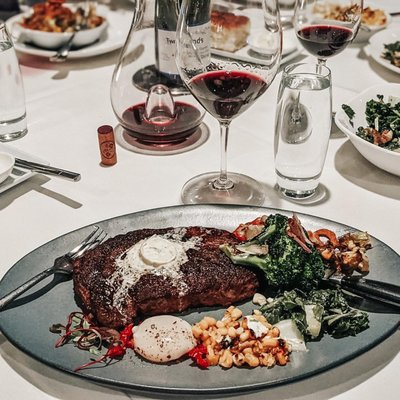burger: (0, 225, 109, 313)
curry: (219, 214, 376, 340), (221, 214, 325, 294)
pizza: (0, 22, 29, 143)
sandwich: (0, 222, 108, 313), (12, 158, 81, 181)
sushi: (334, 85, 400, 178), (8, 1, 109, 50)
